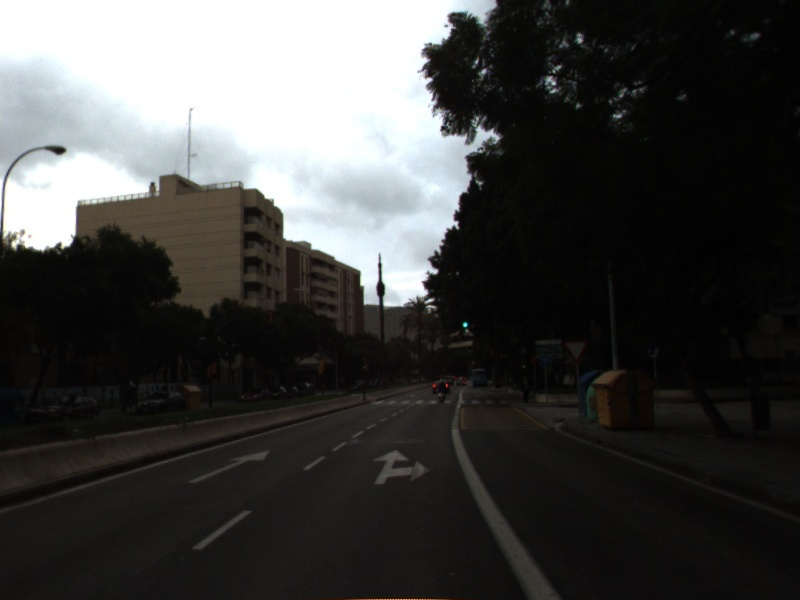STRAIGHT: (185, 448, 272, 486)
STRAIGHT_RIGHT: (370, 448, 434, 486)
